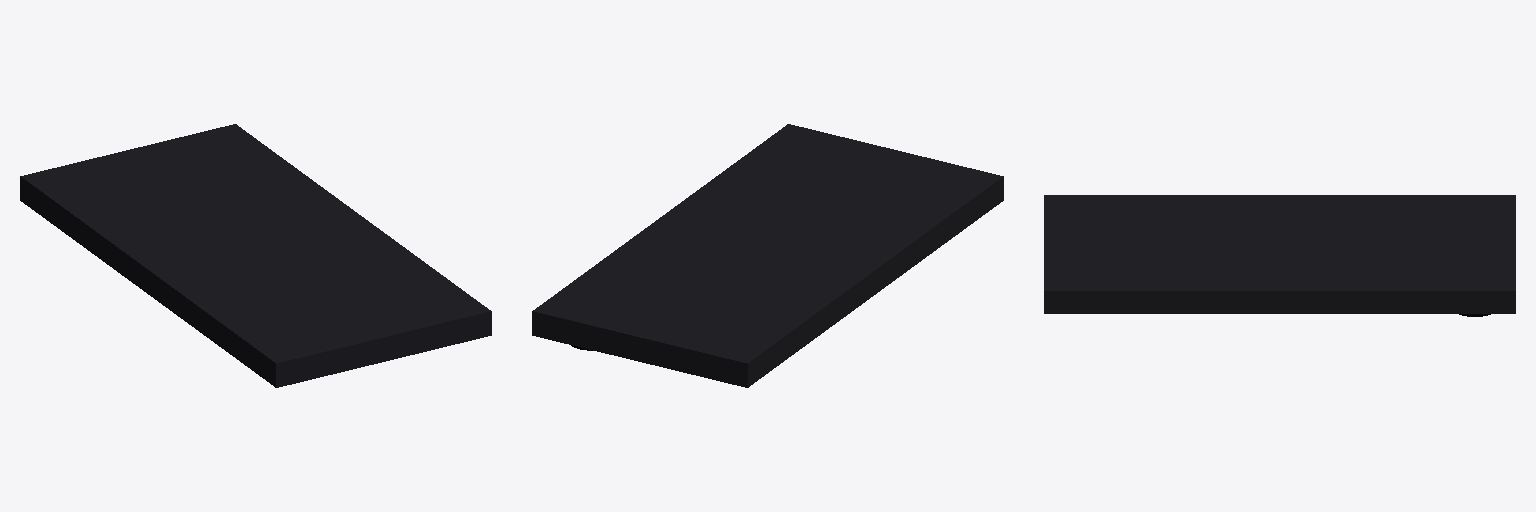
URDF robot description (iphone_15):
<?xml version="1.0"?>
<!-- iPhone 15: generated by imuninn from Apple's dimensional drawings (iphone-frames dataset). Frames: device = display centre on the front glass (x right, y top, z out of the screen); cam_*_optical = OpenCV axes. Geometry and mass are approximate. -->
<robot name="iphone_15">
  <material name="iphone_body">
    <color rgba="0.15 0.15 0.17 1" />
  </material>
  <material name="iphone_lens">
    <color rgba="0.05 0.05 0.06 1" />
  </material>
  <link name="device">
    <visual name="body">
      <origin xyz="5e-06 -5e-06 -0.003905" rpy="0 0 0" />
      <geometry>
        <box size="0.07163 0.14764 0.00781" />
      </geometry>
      <material name="iphone_body" />
    </visual>
    <collision name="body">
      <origin xyz="5e-06 -5e-06 -0.003905" rpy="0 0 0" />
      <geometry>
        <box size="0.07163 0.14764 0.00781" />
      </geometry>
    </collision>
    <visual name="lens_ultra_wide">
      <origin xyz="0.02309 0.061085 -0.00955" rpy="0 0 0" />
      <geometry>
        <cylinder radius="0.007535" length="0.00348" />
      </geometry>
      <material name="iphone_lens" />
    </visual>
    <visual name="lens_main">
      <origin xyz="0.01018 0.048175 -0.00955" rpy="0 0 0" />
      <geometry>
        <cylinder radius="0.007535" length="0.00348" />
      </geometry>
      <material name="iphone_lens" />
    </visual>
    <inertial>
      <origin xyz="5e-06 -5e-06 -0.003905" rpy="0 0 0" />
      <mass value="0.19" />
      <inertia ixx="0.000346094" ixy="0" ixz="0" iyy="8.22043e-05" iyz="0" izz="0.000426367" />
    </inertial>
  </link>
  <link name="magsafe" />
  <joint name="device_to_magsafe" type="fixed">
    <parent link="device" />
    <child link="magsafe" />
    <origin xyz="1e-05 -5e-06 -0.00781" rpy="3.14159265 0 3.14159265" />
  </joint>
  <link name="cam_ultra_wide_optical" />
  <joint name="device_to_cam_ultra_wide_optical" type="fixed">
    <parent link="device" />
    <child link="cam_ultra_wide_optical" />
    <origin xyz="0.02309 0.061085 -0.01129" rpy="3.14159265 0 -1.57079633" />
  </joint>
  <link name="cam_main_optical" />
  <joint name="device_to_cam_main_optical" type="fixed">
    <parent link="device" />
    <child link="cam_main_optical" />
    <origin xyz="0.01018 0.048175 -0.01129" rpy="3.14159265 0 -1.57079633" />
  </joint>
  <link name="cam_front_optical" />
  <joint name="device_to_cam_front_optical" type="fixed">
    <parent link="device" />
    <child link="cam_front_optical" />
    <origin xyz="0.00734 0.065645 0" rpy="0 0 1.57079633" />
  </joint>
  <link name="imu" />
  <joint name="device_to_imu" type="fixed">
    <parent link="device" />
    <child link="imu" />
    <origin xyz="0 0 0" rpy="0 0 0" />
  </joint>
</robot>

--- Render facts (derived) ---
The picture shows the robot from 3 angles, left to right: view 1: azimuth 30°, elevation 25°; view 2: azimuth 150°, elevation 25°; view 3: azimuth 270°, elevation 25°; orthographic projection.
Model iphone_15 with 6 links and 5 joints (5 fixed), rooted at device, posed every joint at zero.
Links seen in each view (by area): view 1: device; view 2: device; view 3: device.
Boxes of the visible links, x1,y1,x2,y2 form: device: (20,124,491,387); device: (532,124,1003,387); device: (1044,195,1515,316).
Size in the robot's own frame: 0.0716 by 0.1476 by 0.0113 metres.
Geometry: primitives only (box / cylinder / sphere), no mesh files.
